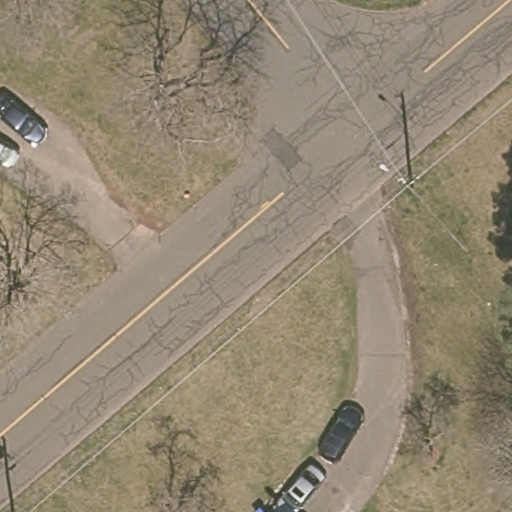DT: (377, 163, 412, 188)
